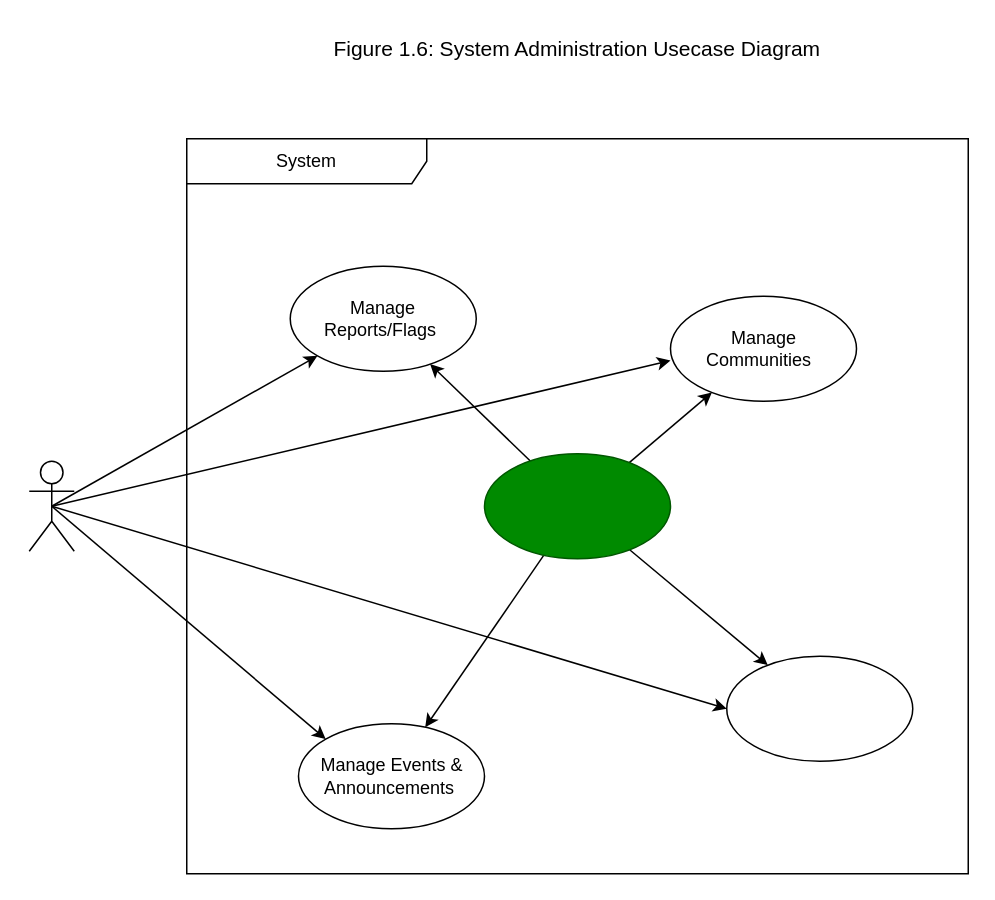
Image size: 995x900. Some labels were removed from this diagram. Here are the shapes that lost their labels. From the top down, the box of each, then its label:
(28, 460, 74, 551): Admin
(483, 452, 670, 559): System Administration
